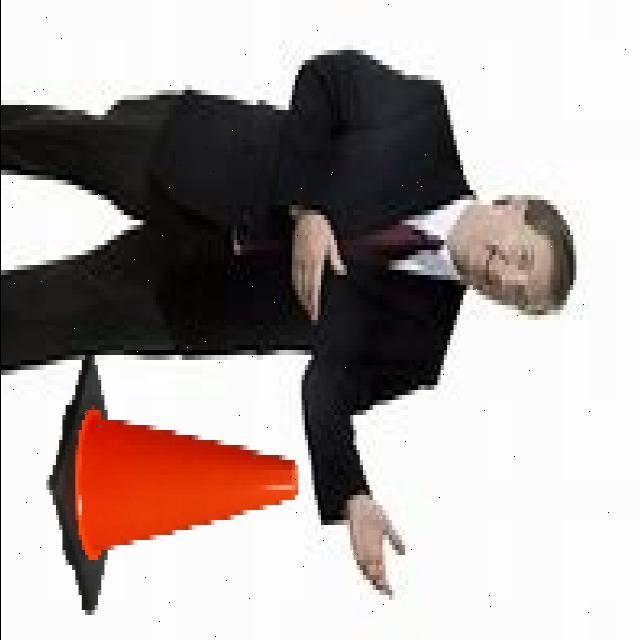traffic cone: (41, 348, 303, 622)
